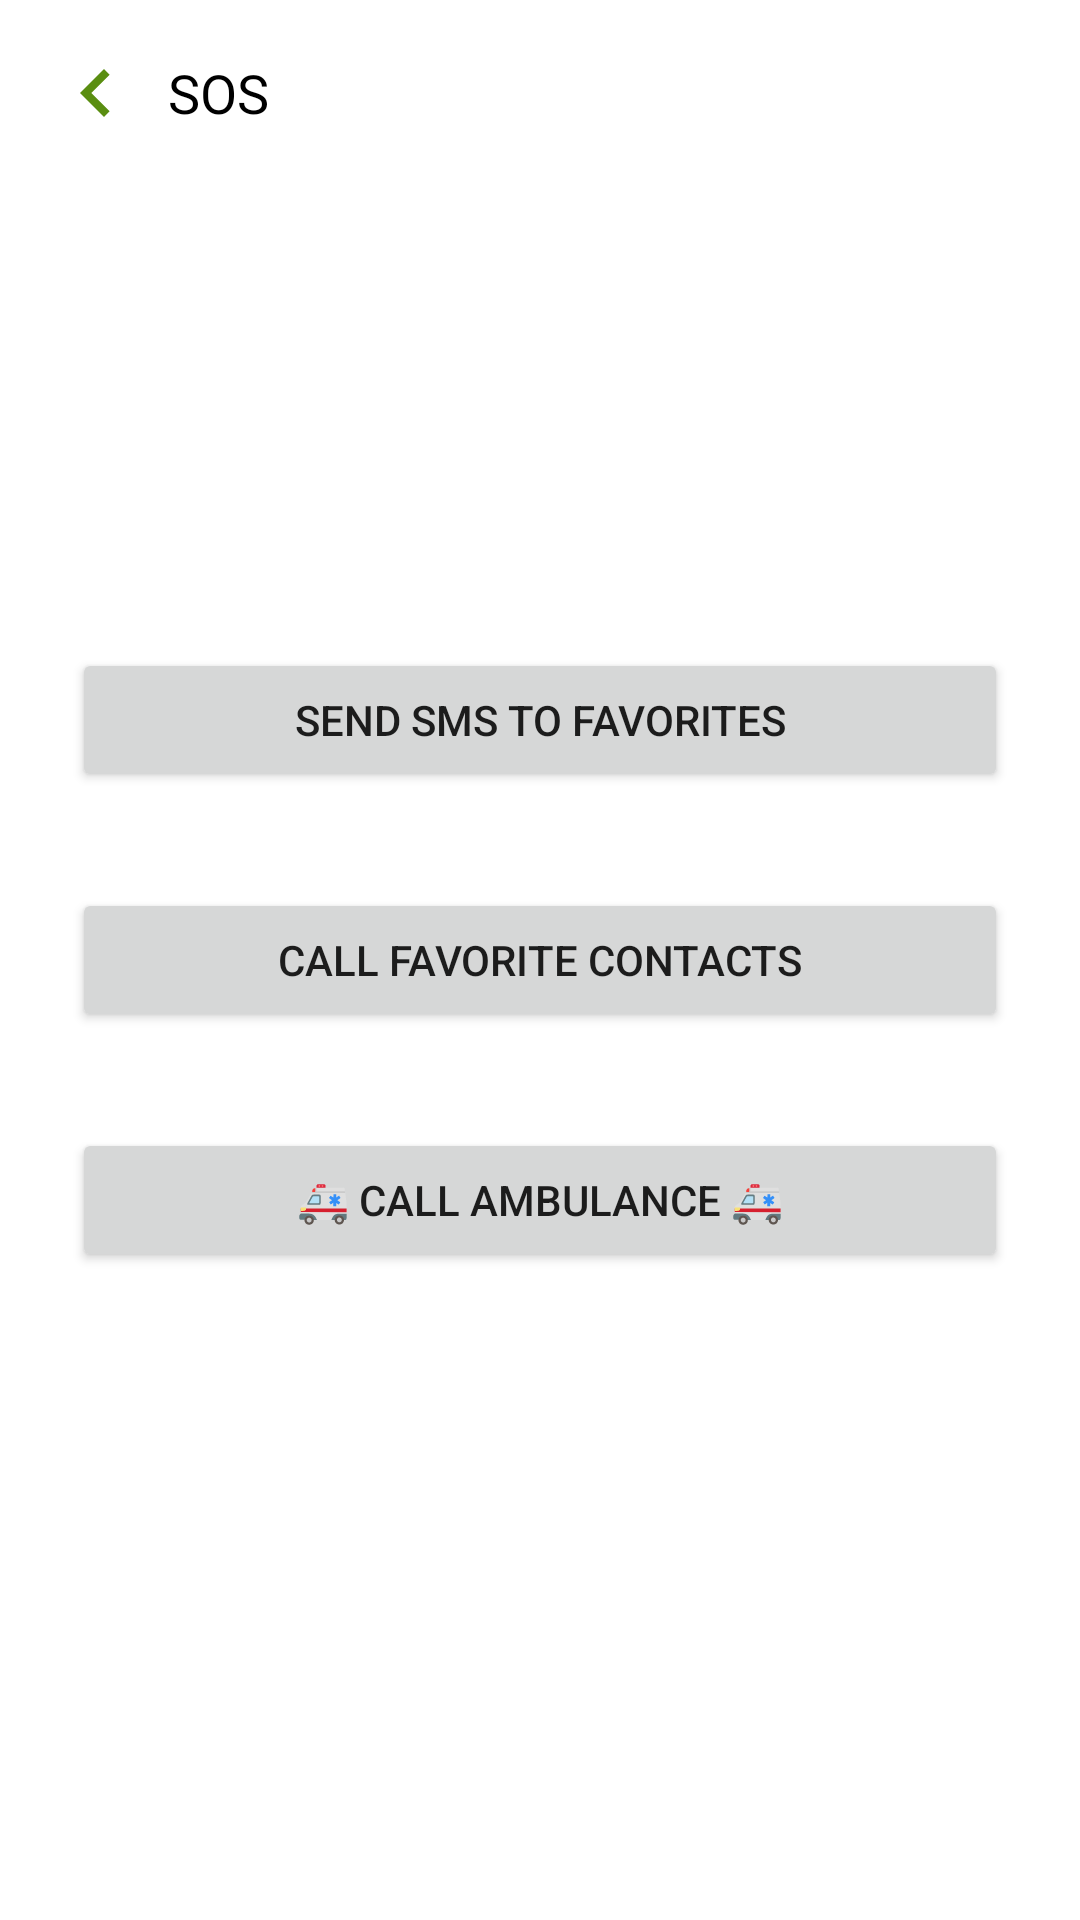

Where icons sit on this 1080*1920 app screen, as [x1=x1, y1=y1, x2=x2, y2=y2]:
chevron left: [x1=80, y1=69, x2=110, y2=117]
